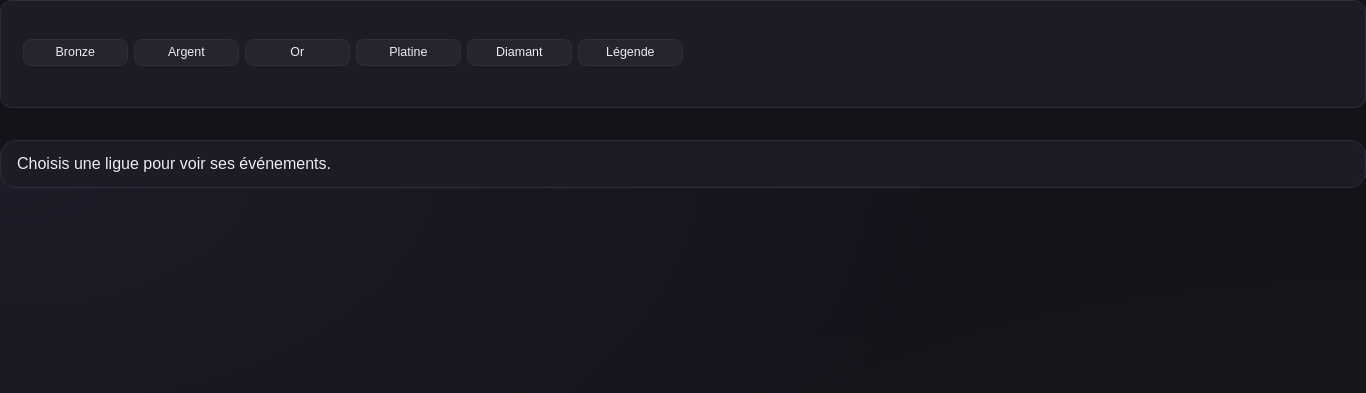
Test: EventsReferenceTable › Bloc77/B: lists events in order, each showing its name and duration in hours
Click the button "Bronze" at (75, 52), box x1=23 y1=39 x2=128 y2=66
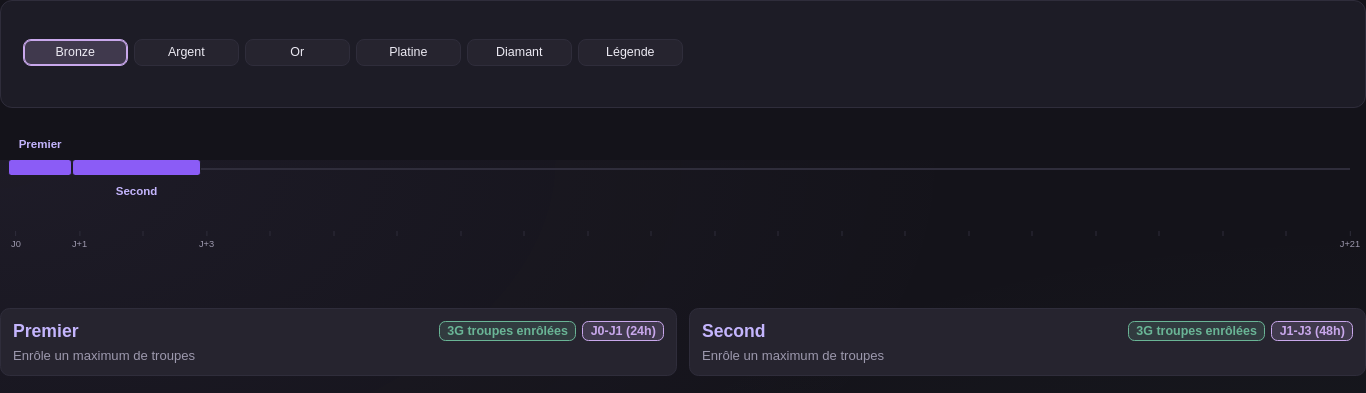
Expected: the text "J0-J1 (24h)" is shown, x1=582 y1=321 x2=664 y2=341
Expected: the text "J1-J3 (48h)" is shown, x1=1272 y1=321 x2=1353 y2=341
